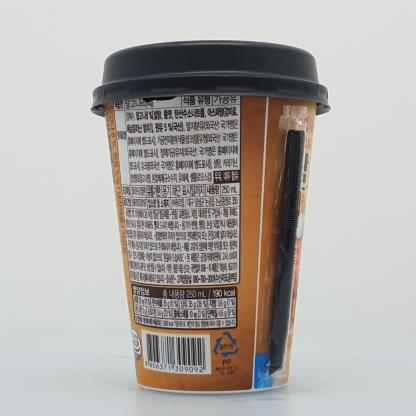---------250ML: (90, 40, 331, 394)
